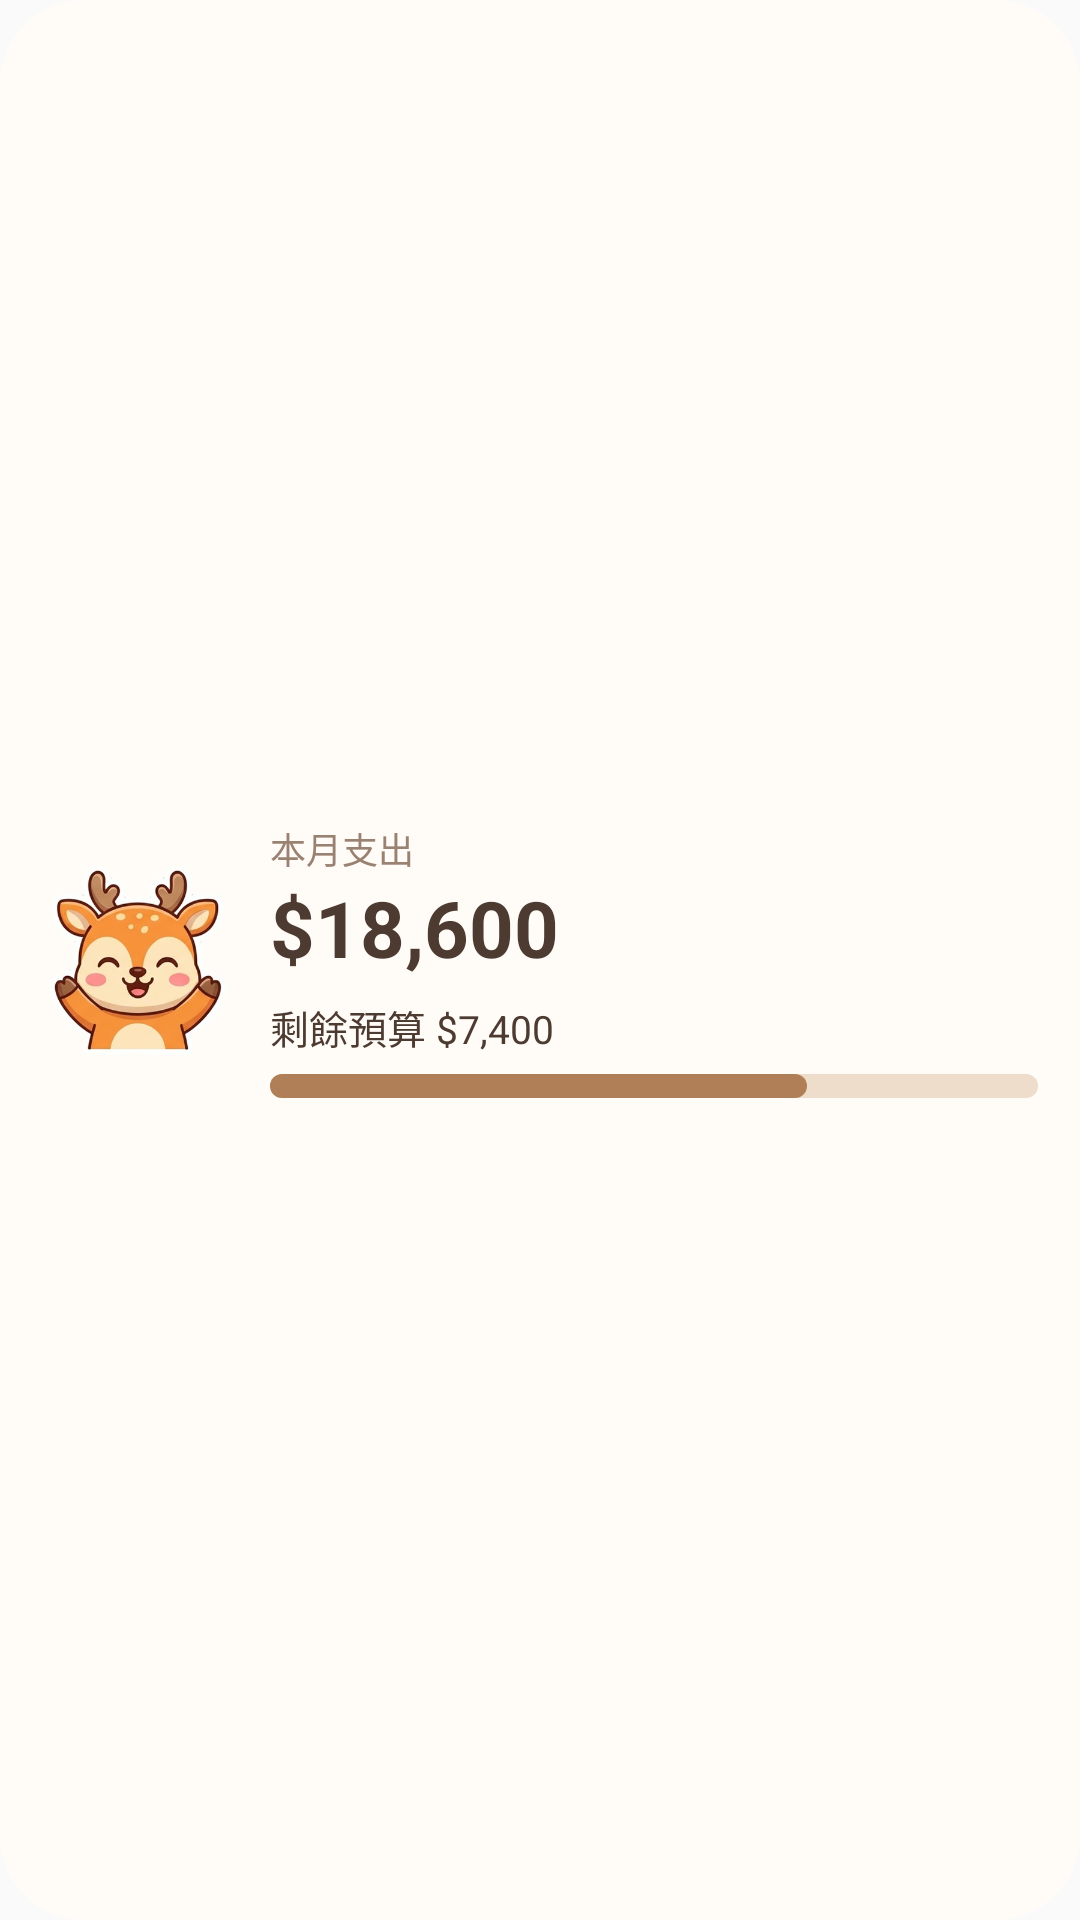

Named icons in this screenshot (1080 x 1920) and their bounding boxes, (x1,y1,x2,y2):
mascot deer happy: (54,870,221,1050)
